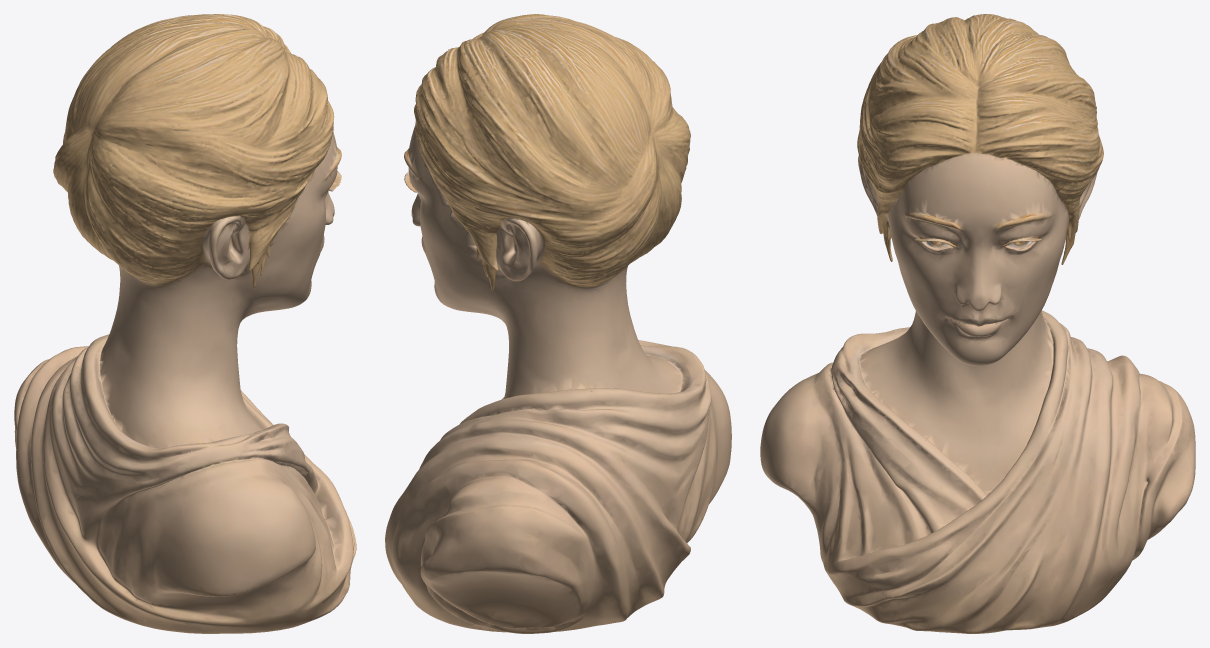
3 renders of one model, left to right at view 1: azimuth 30°, elevation 25°; view 2: azimuth 150°, elevation 25°; view 3: azimuth 270°, elevation 25°, orthographic.
Visible parts, largest first — view 1: tripo_node_8d450d3a-004e-4df1-95c9-f36ba58162cb; view 2: tripo_node_8d450d3a-004e-4df1-95c9-f36ba58162cb; view 3: tripo_node_8d450d3a-004e-4df1-95c9-f36ba58162cb.
Part boxes in pixels (left/top/right/bottom): tripo_node_8d450d3a-004e-4df1-95c9-f36ba58162cb: left=14, top=14, right=356, bottom=633; tripo_node_8d450d3a-004e-4df1-95c9-f36ba58162cb: left=385, top=14, right=731, bottom=633; tripo_node_8d450d3a-004e-4df1-95c9-f36ba58162cb: left=760, top=14, right=1195, bottom=633.
Bounding box in the file's own units: 0.4965 × 0.9999 × 0.713.
Materials: 1 (1 with a texture image).
